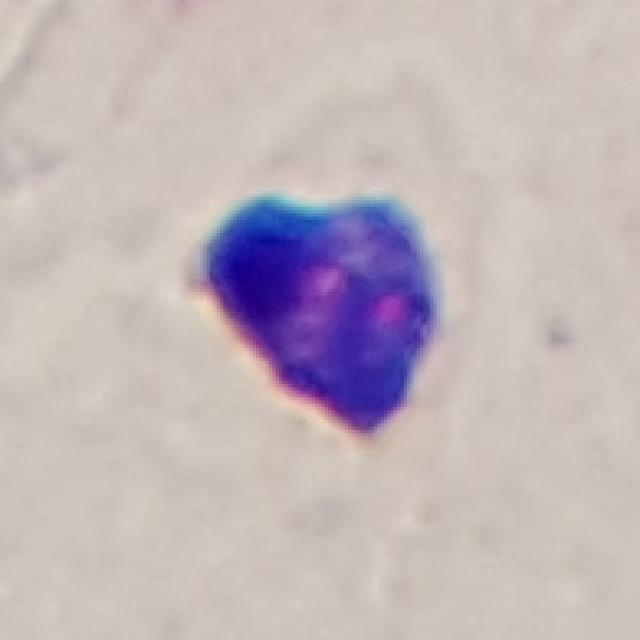non-sperm: (201, 195, 443, 442)
